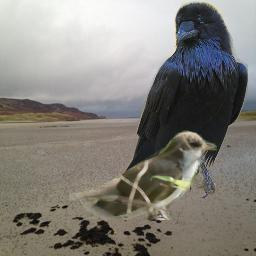Crow: (119, 1, 248, 198)
Cuckoo: (69, 130, 217, 220)
